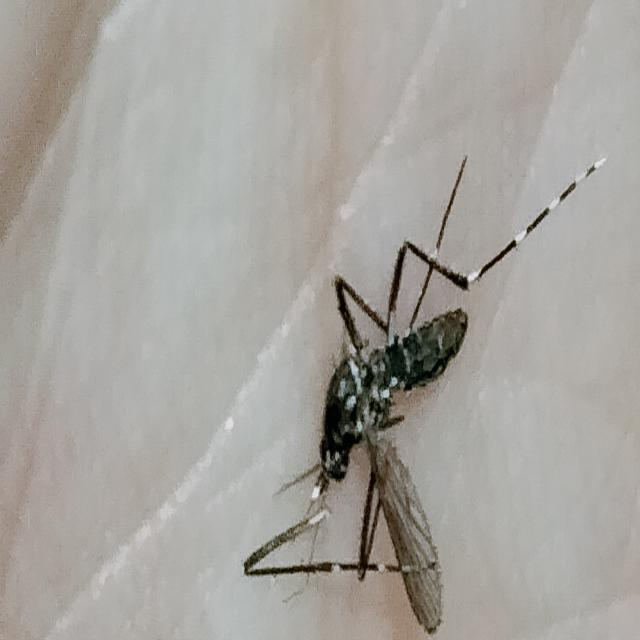albopictus: (252, 100, 606, 579)
